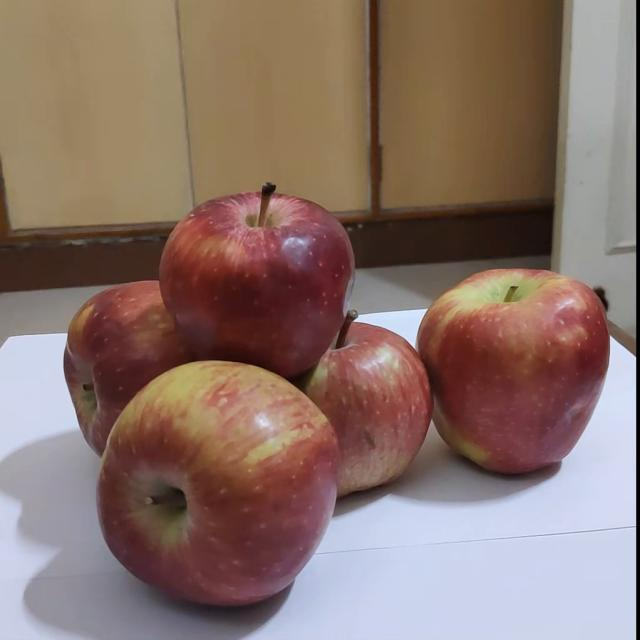apple: (89, 356, 357, 624), (389, 258, 614, 493), (40, 276, 249, 488), (155, 178, 357, 395), (263, 306, 433, 518)
